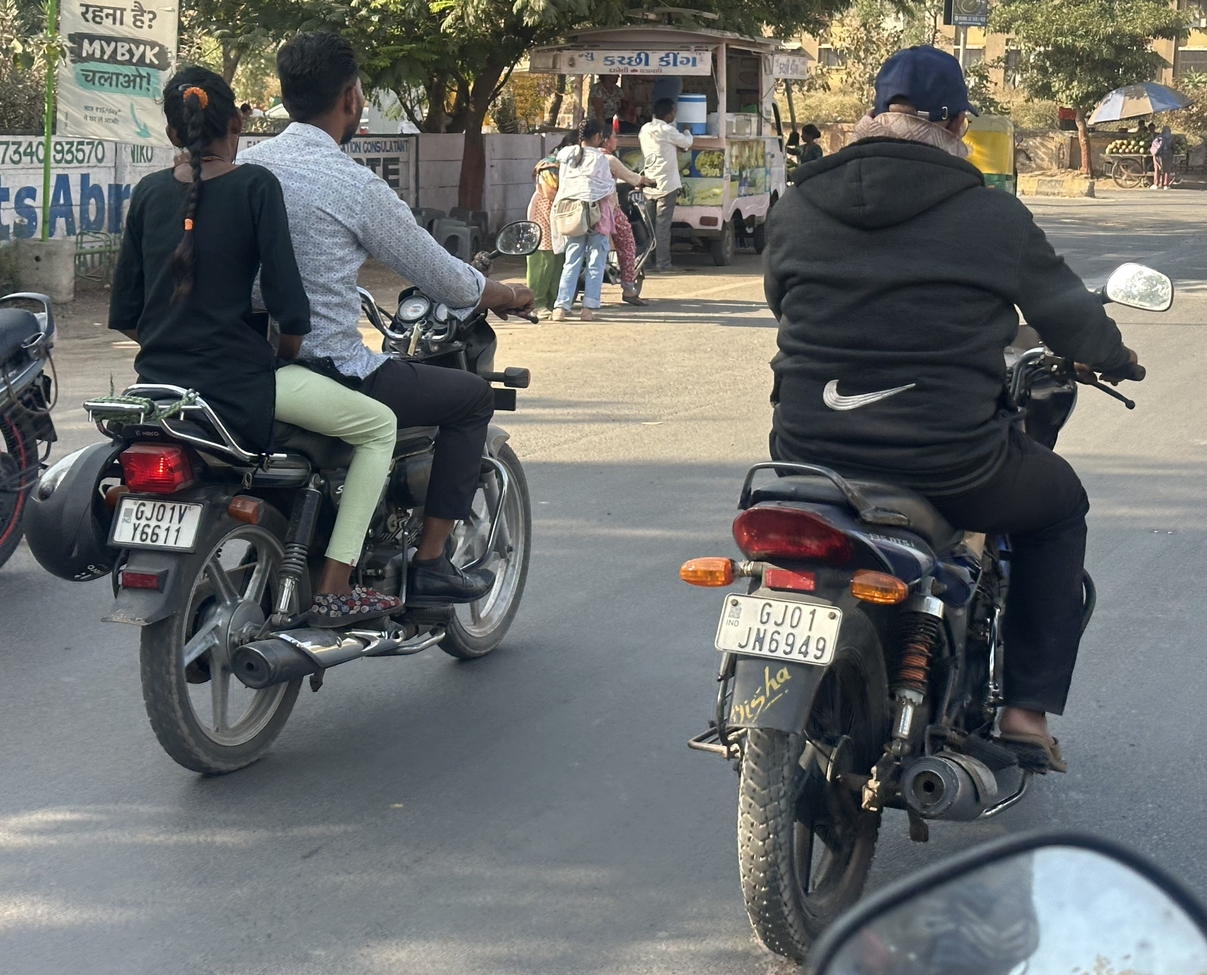BikeWithRider: (669, 34, 1181, 972), (47, 20, 552, 786)
NoHelmet: (858, 36, 984, 158), (267, 22, 374, 152), (149, 57, 254, 171)
